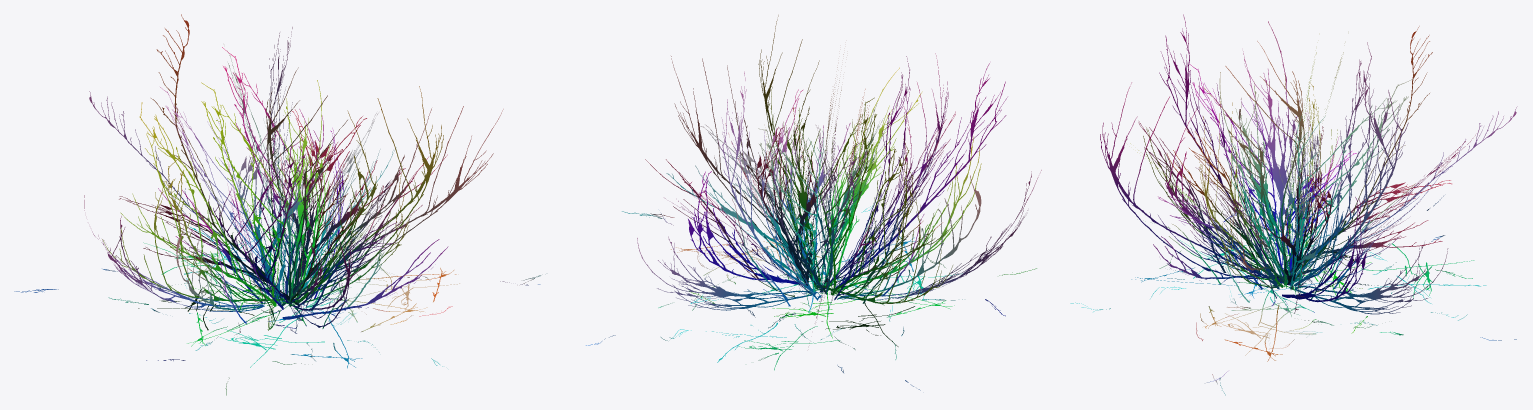
Rendered from Dead_Shrubs_vdknafgha_Raw_vdknafgha_VarC_LOD0.fbx.
3 views of the same model, side by side, from view 1: azimuth 30°, elevation 25°; view 2: azimuth 150°, elevation 25°; view 3: azimuth 270°, elevation 25° (orthographic). The views are drawn at different scales.
Parts seen in each view (by area): view 1: _l6i3_VarC_High; view 2: _l6i3_VarC_High; view 3: _l6i3_VarC_High.
Boxes of the visible parts, box(x1,y1,x2,y2) form: _l6i3_VarC_High: box(14, 14, 540, 395); _l6i3_VarC_High: box(586, 15, 1041, 390); _l6i3_VarC_High: box(1070, 14, 1517, 395).
Size of the model in its own units: 82.23 by 44.98 by 73.39.
